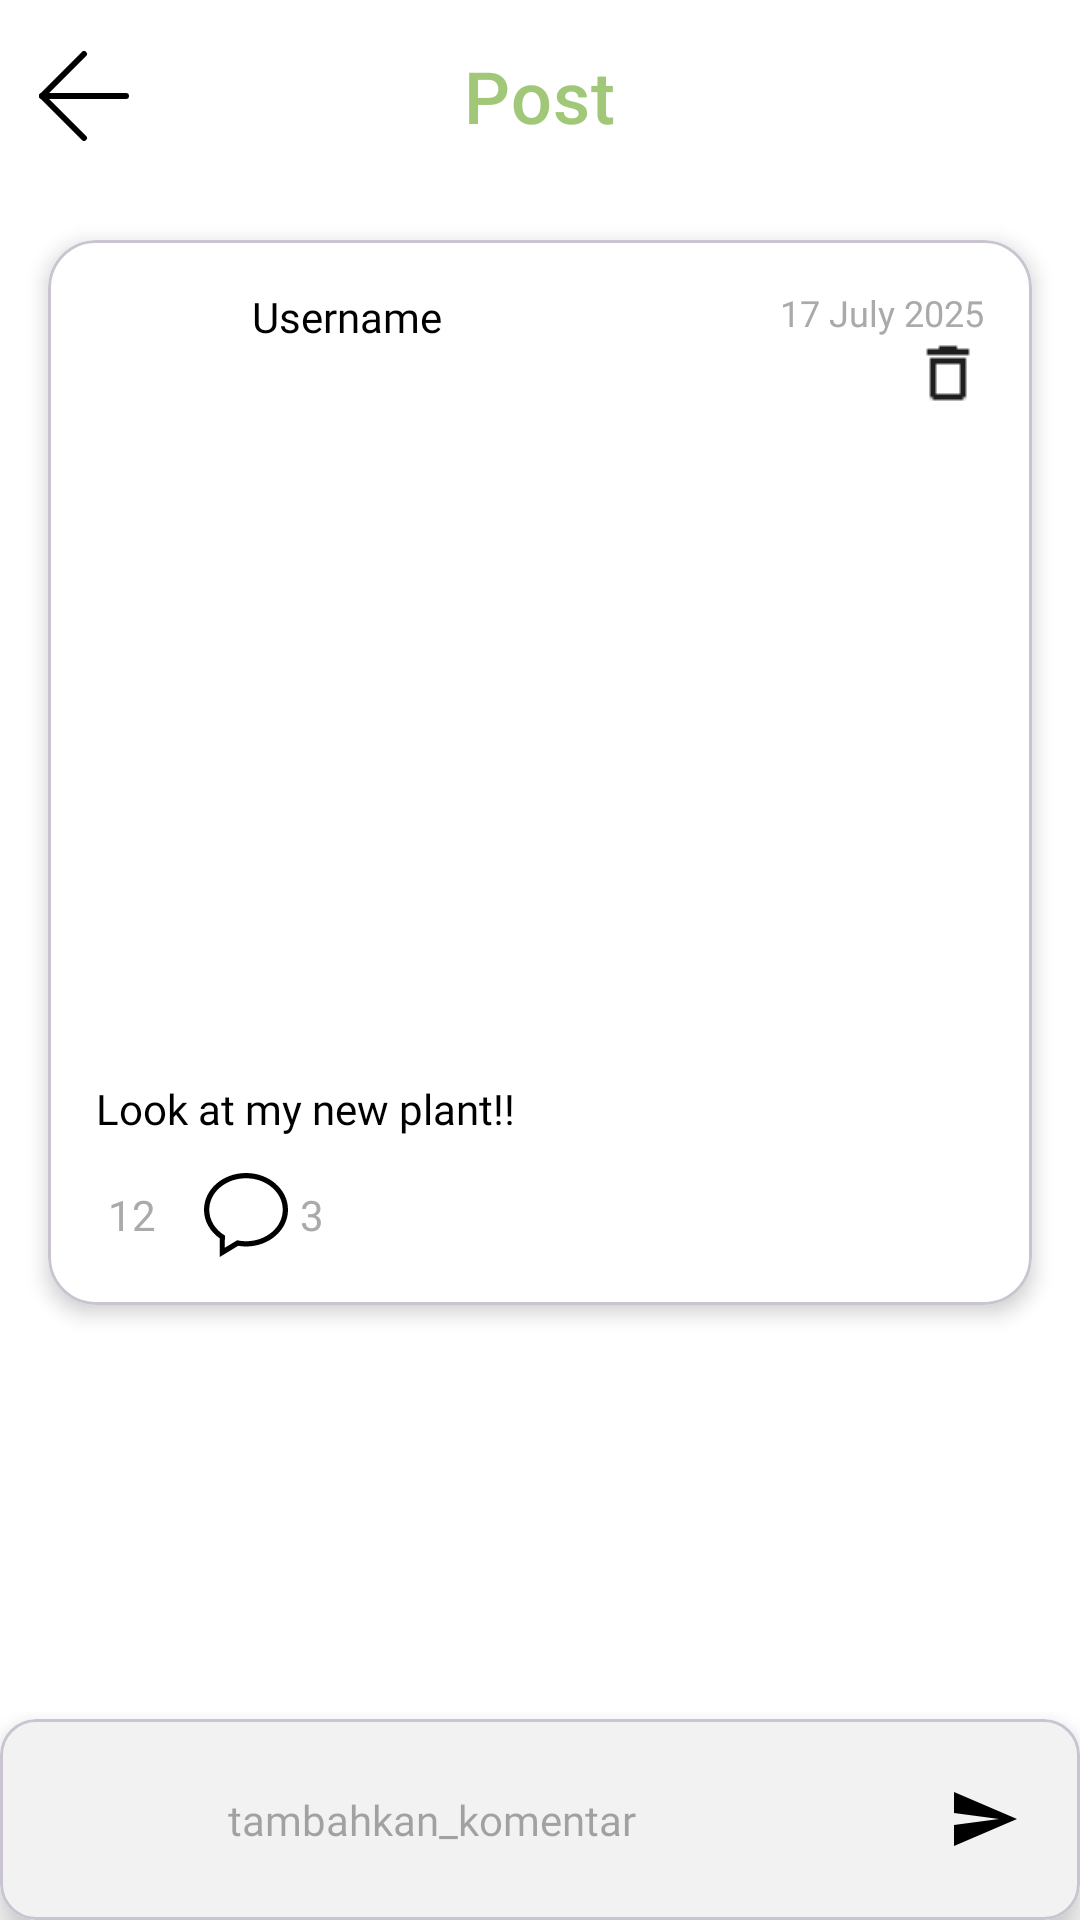

Screen size 1080x1920. Icon name, then its center in pixels as (x=x, y=y):
buat kirim komentar: (x=985, y=1819)
comment: (x=246, y=1215)
Delete Post: (x=948, y=373)
